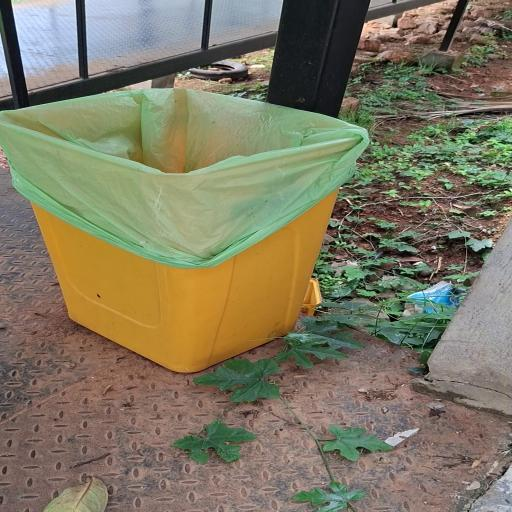Nilkamal-dustbin-detection: (0, 89, 367, 371)
